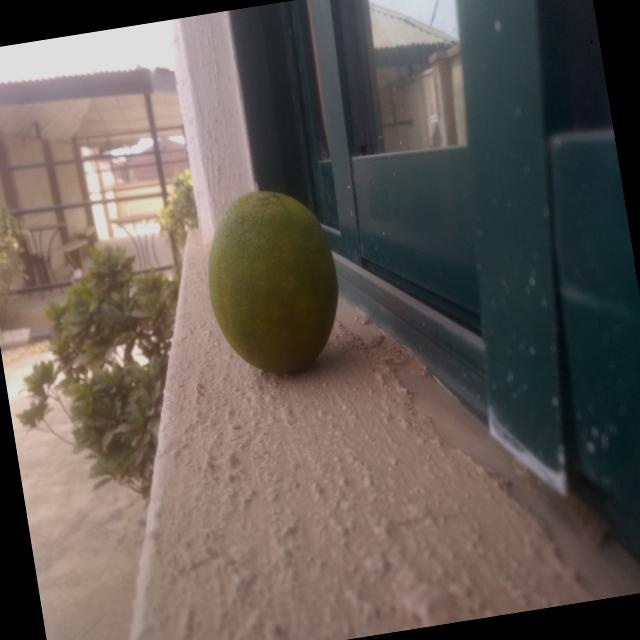agrume: (181, 143, 375, 423)
